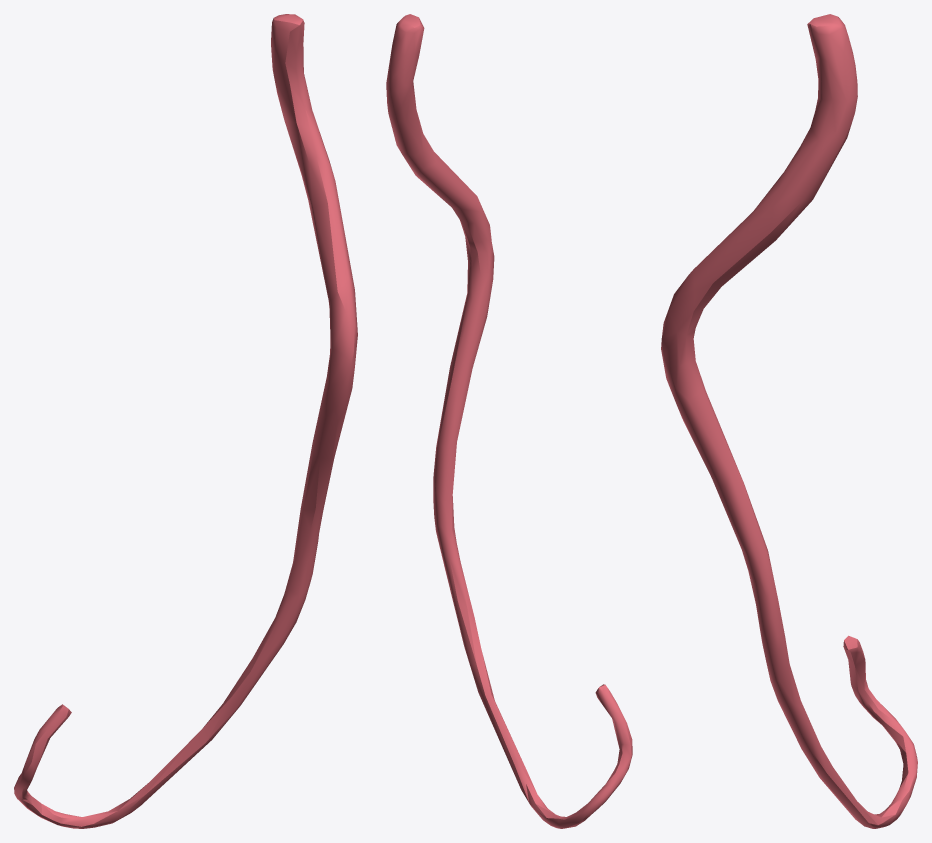
The model's file is fma14332_fj3647.glb.
The picture shows the model from 3 angles, left to right: view 1: azimuth 30°, elevation 25°; view 2: azimuth 150°, elevation 25°; view 3: azimuth 270°, elevation 25°; orthographic projection. The views are drawn at different scales.
Visible parts, largest first — view 1: FMA14332_FJ3647; view 2: FMA14332_FJ3647; view 3: FMA14332_FJ3647.
Part boxes in pixels (x1,y1,x2,y2): FMA14332_FJ3647: [14, 14, 357, 828]; FMA14332_FJ3647: [386, 14, 632, 828]; FMA14332_FJ3647: [661, 14, 917, 828].
Size of the model in its own units: 0.0575 by 0.1568 by 0.0405.
